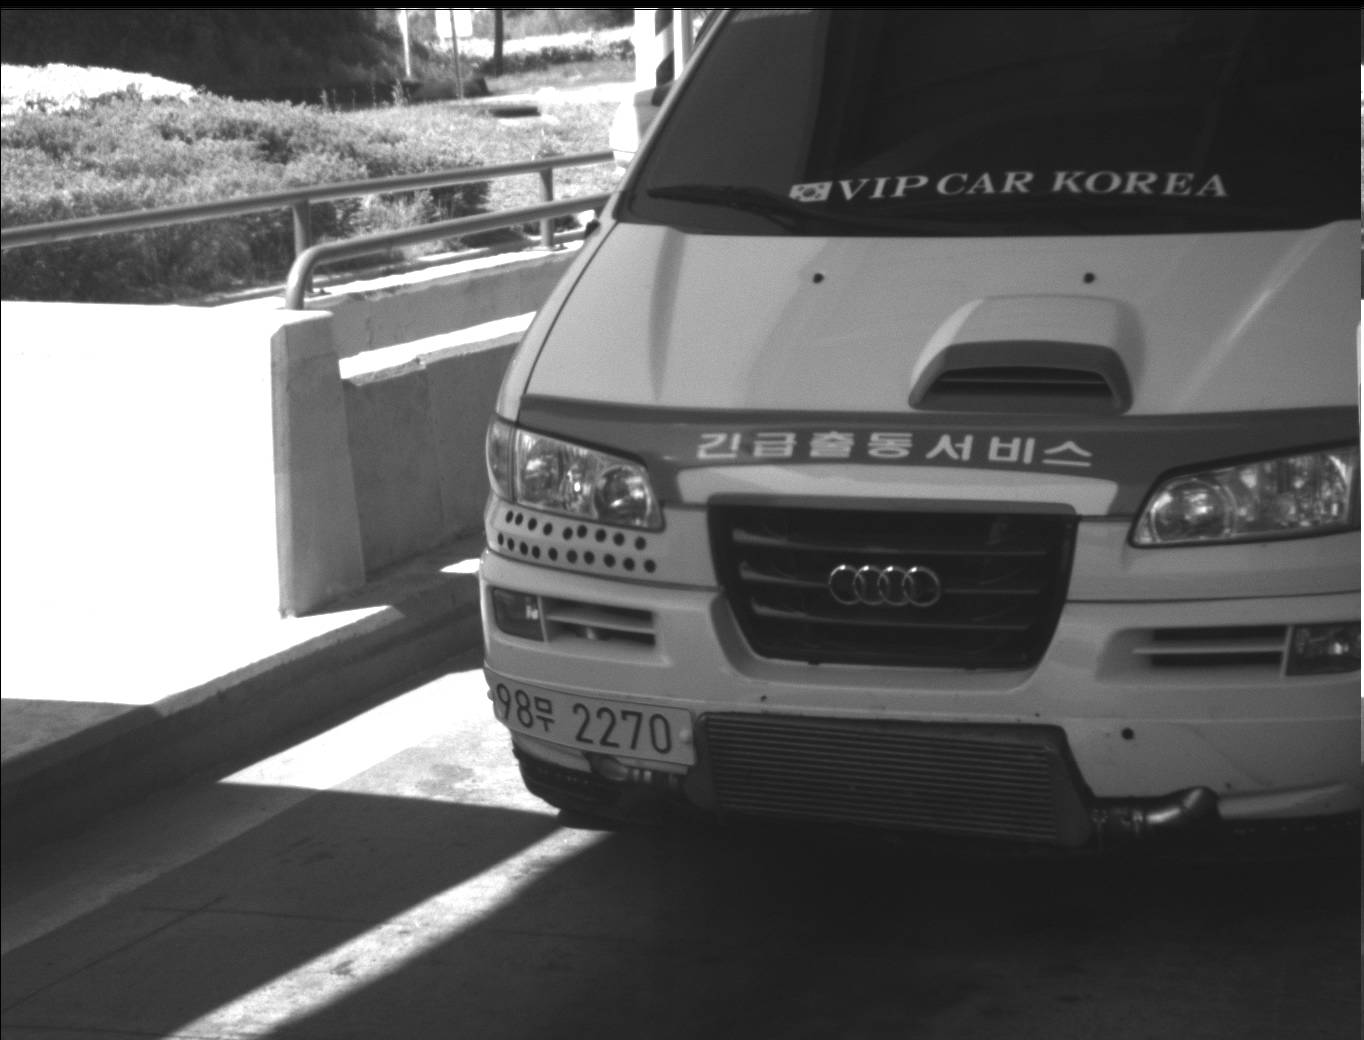car: (472, 1, 1360, 860)
plate: (478, 666, 696, 773)
